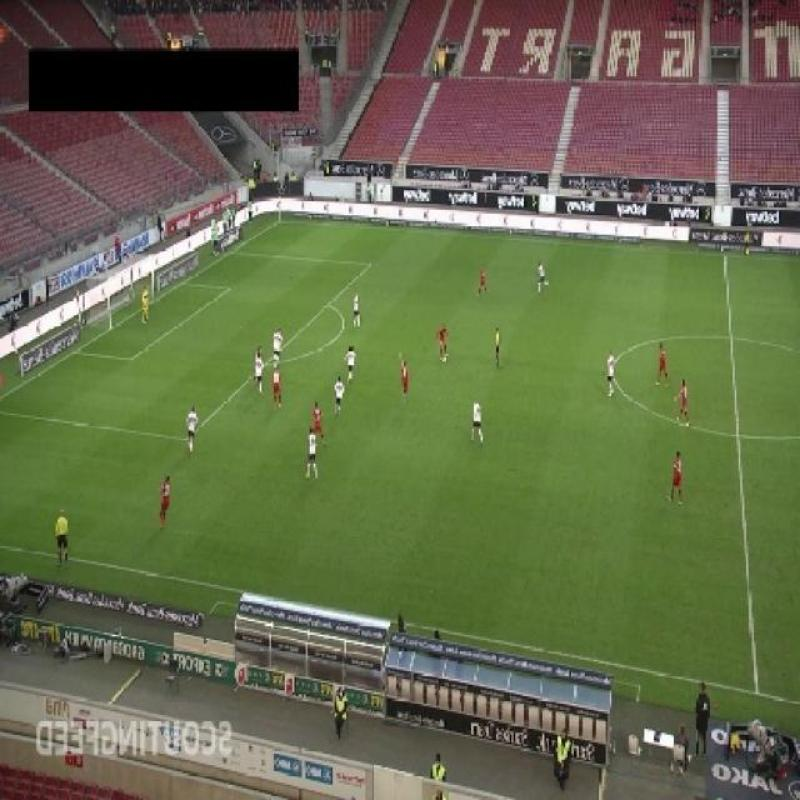1: (273, 211, 292, 228)
10: (321, 294, 337, 312)
11: (262, 356, 278, 374)
13: (715, 240, 736, 264)
14: (718, 321, 746, 350)
15: (725, 418, 753, 450)
16: (744, 680, 770, 704)
2: (222, 243, 240, 259)
3: (176, 274, 192, 292)
4: (64, 342, 84, 362)
7: (221, 280, 238, 299)
8: (122, 346, 143, 370)
9: (361, 254, 379, 274)
c: (602, 360, 626, 392)
